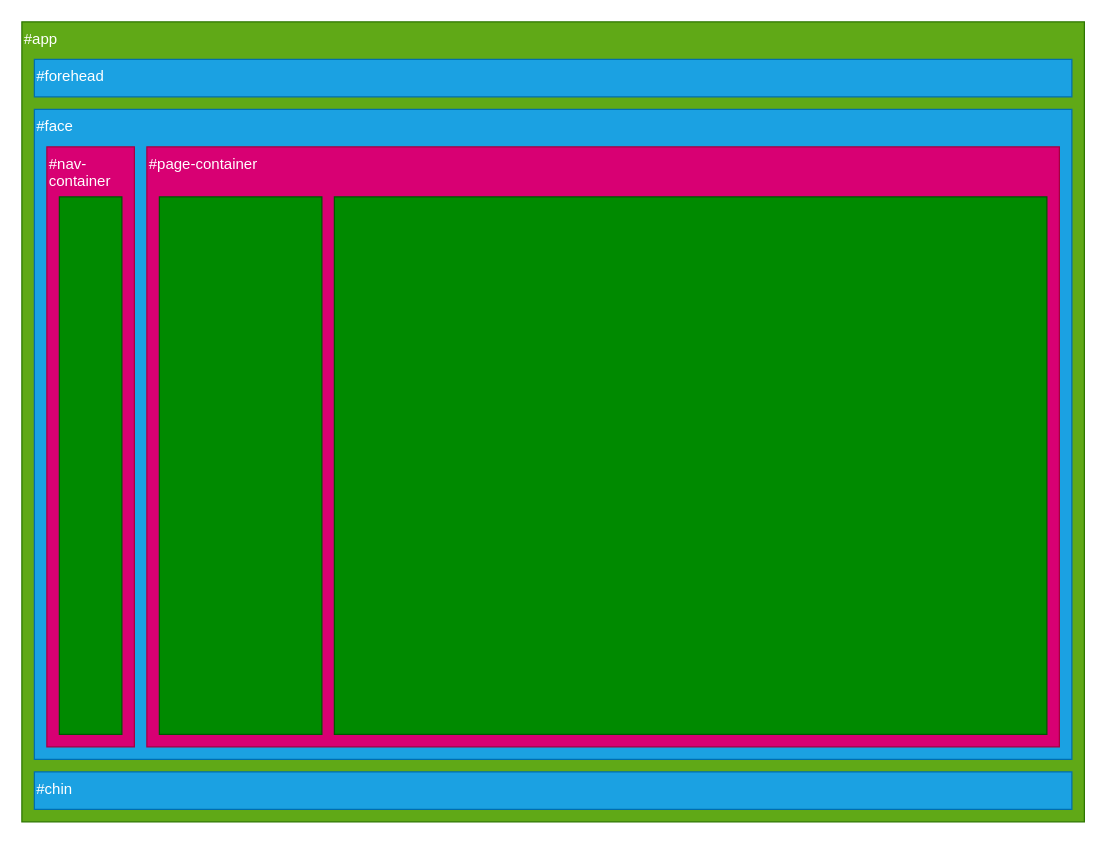
This 1106x844 diagram has some shape labels left out. Here are the shapes that lost their labels. From the top down, the centre of each, then its label:
At point (90, 465): "#nav".
At point (240, 465): "#explorer".
At point (690, 465): "#editor".
